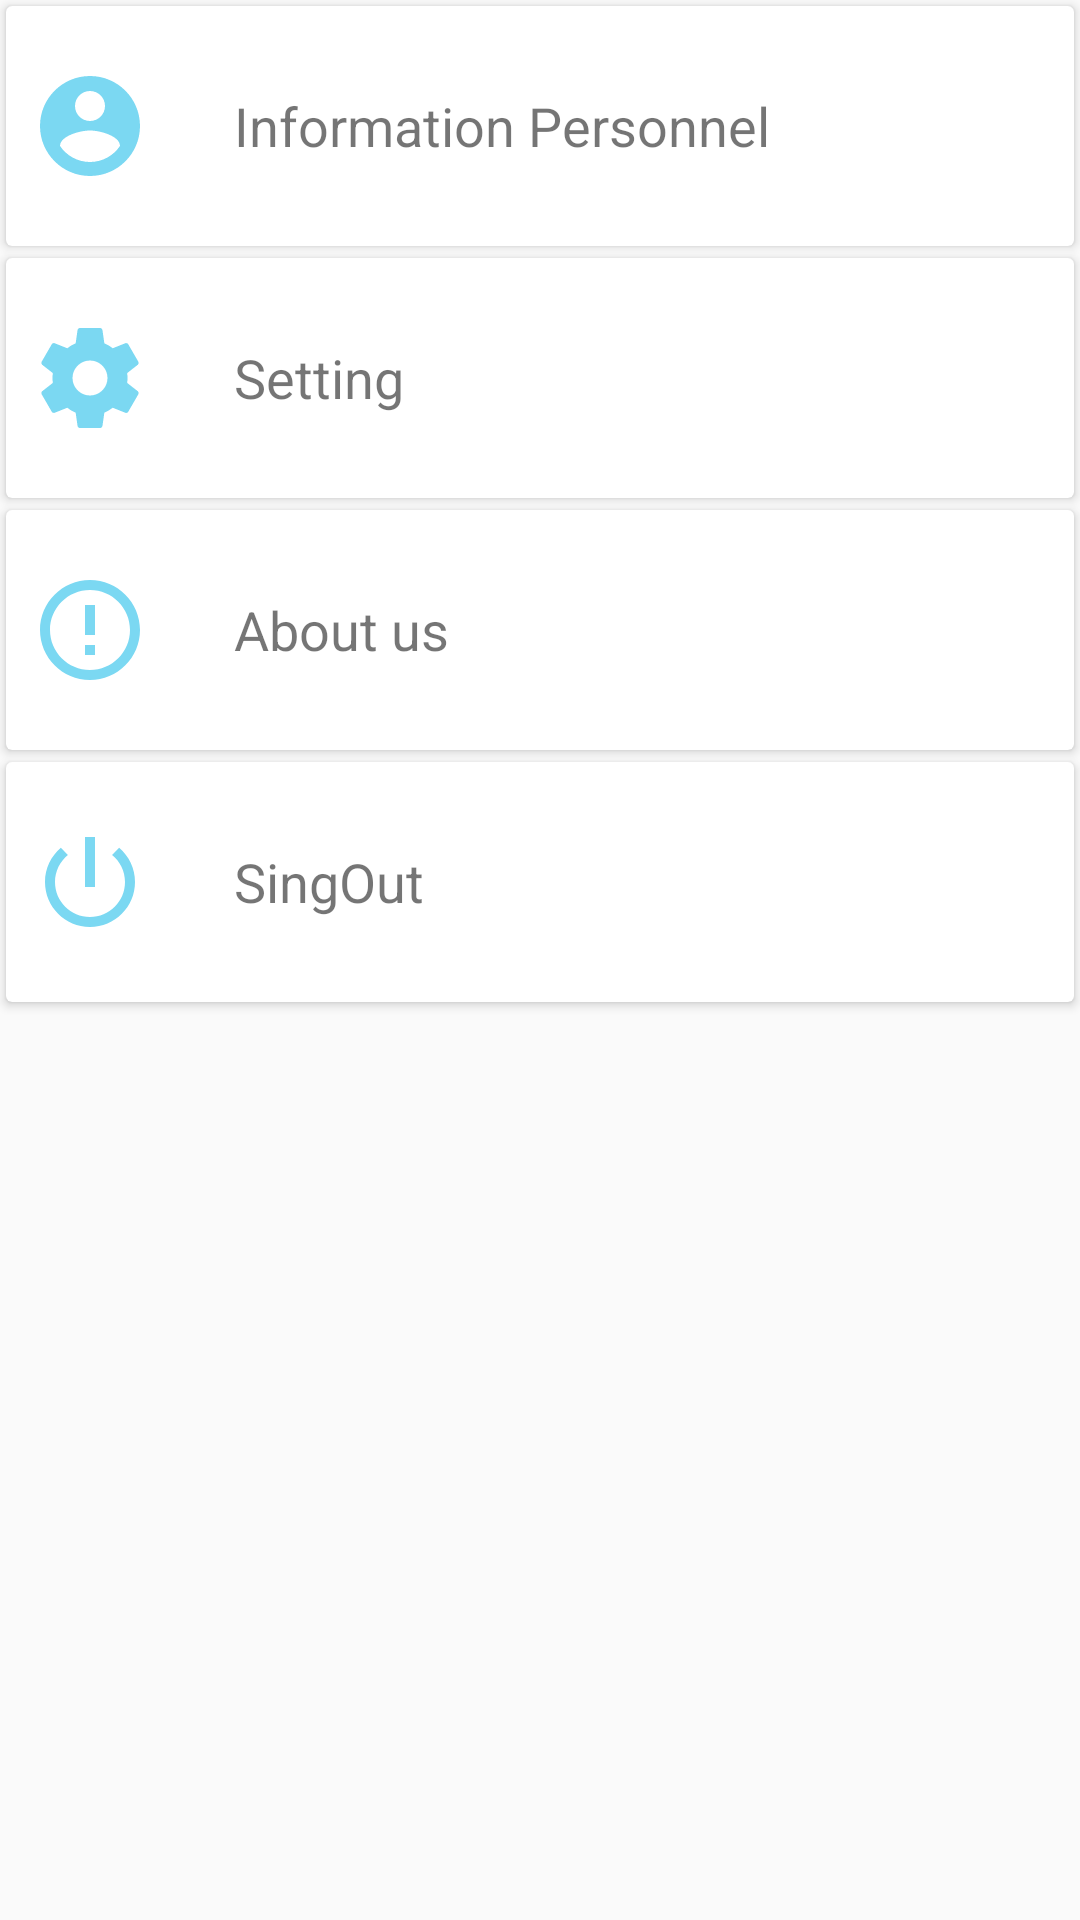

Locate icon controls on the screen. Image size 1080 × 1920, boxes as (x1, y1, x2, y2).
error: (40, 580, 140, 680)
power settings: (45, 837, 135, 927)
profile account: (40, 76, 140, 176)
